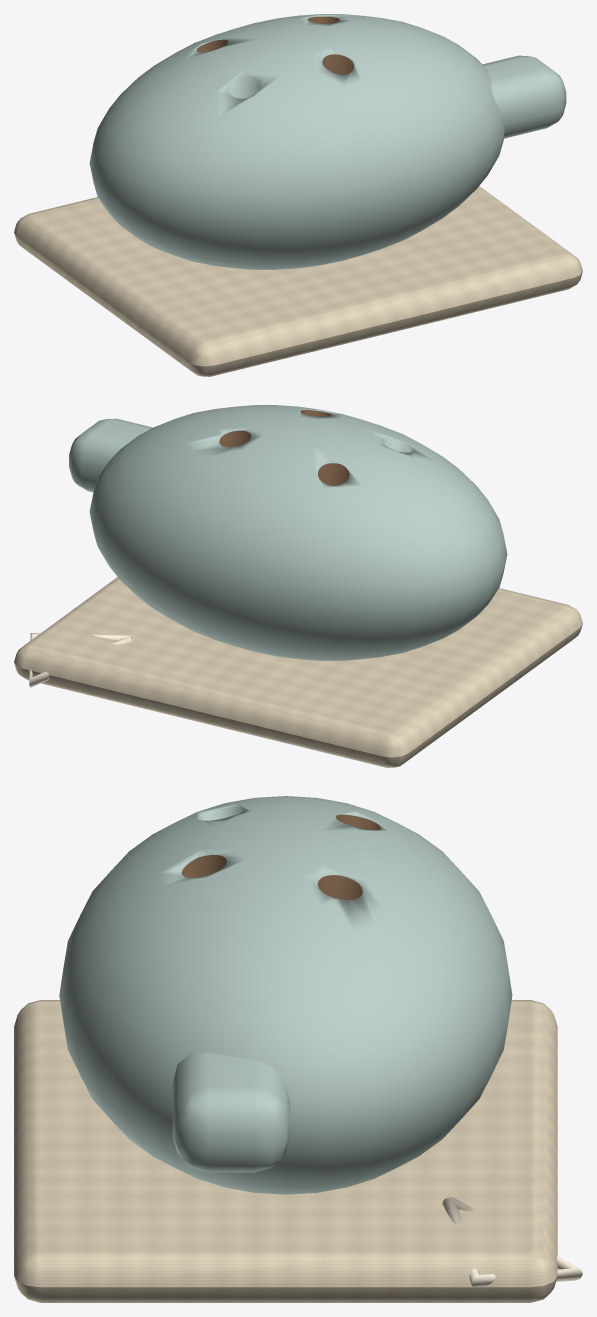
Rendered from gift-14.6fc6a28ed6fc.glb.
3 renders of one model, top to bottom at view 1: azimuth 30°, elevation 25°; view 2: azimuth 150°, elevation 25°; view 3: azimuth 270°, elevation 25°, orthographic. The views are drawn at different scales.
Visible parts, largest first — view 1: Ocarina_thick_body, Soft_cloth_support, Offset_rounded_mouthpiece; view 2: Ocarina_thick_body, Soft_cloth_support, Offset_rounded_mouthpiece, Cotton_hanging_loop; view 3: Ocarina_thick_body, Soft_cloth_support, Offset_rounded_mouthpiece, Cotton_hanging_loop.
Part boxes in pixels (x1=…): Ocarina_thick_body: x1=89, y1=14, x2=504, y2=269; Soft_cloth_support: x1=14, y1=186, x2=582, y2=376; Offset_rounded_mouthpiece: x1=483, y1=55, x2=566, y2=138; Ocarina_thick_body: x1=89, y1=405, x2=507, y2=660; Soft_cloth_support: x1=14, y1=577, x2=582, y2=767; Offset_rounded_mouthpiece: x1=69, y1=418, x2=152, y2=492; Cotton_hanging_loop: x1=29, y1=633, x2=132, y2=687; Ocarina_thick_body: x1=59, y1=796, x2=512, y2=1194; Soft_cloth_support: x1=14, y1=1000, x2=557, y2=1302; Offset_rounded_mouthpiece: x1=172, y1=1052, x2=290, y2=1172; Cotton_hanging_loop: x1=442, y1=1197, x2=582, y2=1286.
Bounding box in the file's own units: 0.0785 × 0.04 × 0.0628.
Materials: 4 (1 with a texture image).
